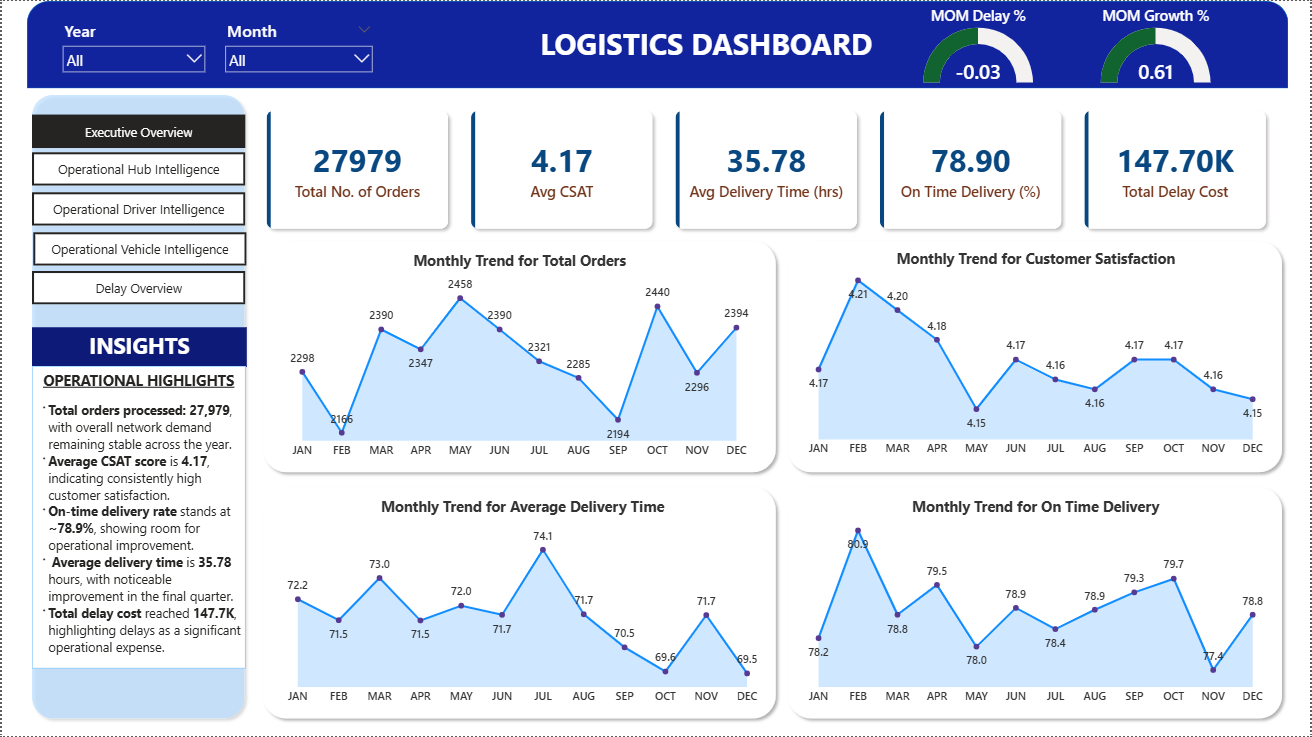

Layout of this report page (visuals, bound fields, positions):
{"tool":"powerbi","page":{"name":"Executive Overview","canvas":[1920,1080],"ordinal":0},"visuals":[{"type":"shape","box":[36.7,0,1850.8,128.4],"z":0},{"type":"textbox","box":[755.7,27.5,555.8,75.2],"z":1000},{"type":"cardVisual","fields":{"Data":["Sum(delivery_network vw_executive_kpis.total_orders)","Avg(delivery_network vw_executive_kpis.avg_customer_satisfaction)","Avg(delivery_network vw_executive_kpis.avg_delivery_time_hours)","Avg(delivery_network vw_executive_kpis.on_time_percentage)","Sum(delivery_network vw_executive_kpis.delay_cost)"]},"box":[359.5,132.1,1527.9,231.1],"z":2000},{"type":"shape","box":[374.2,704.4,770.4,357.7],"z":3000},{"type":"areaChart","title":"Monthly Trend for Average Delivery Time","fields":{"Category":["delivery_network vw_monthly_kpis_with_mom.month_name_abb"],"Y":["Sum(delivery_network vw_monthly_kpis_with_mom.avg_delivery_time_hours)"]},"box":[405.4,726.4,717.2,315.5],"z":4000},{"type":"shape","box":[374.2,343,770.4,357.7],"z":5000},{"type":"shape","box":[1144.6,704.4,742.9,357.7],"z":6000},{"type":"shape","box":[1144.6,343,742.9,357.7],"z":7000},{"type":"areaChart","title":"Monthly Trend for Total Orders","fields":{"Category":["delivery_network vw_monthly_kpis_with_mom.month_name_abb"],"Y":["Sum(delivery_network vw_monthly_kpis_with_mom.total_orders)"]},"box":[412.7,365,693.3,315.5],"z":8000},{"type":"areaChart","title":"Monthly Trend for Customer Satisfaction","fields":{"Category":["delivery_network vw_monthly_kpis_with_mom.month_name_abb"],"Y":["Avg(delivery_network vw_monthly_kpis_with_mom.avg_customer_satisfaction)"]},"box":[1170.3,363.2,693.3,315.5],"z":9000},{"type":"areaChart","title":"Monthly Trend for On Time Delivery","fields":{"Category":["delivery_network vw_monthly_kpis_with_mom.month_name_abb"],"Y":["Avg(delivery_network vw_monthly_kpis_with_mom.on_time_percentage)"]},"box":[1170.3,726.4,693.3,315.5],"z":10000},{"type":"slicer","fields":{"Values":["delivery_network dim_date.year"]},"box":[78.9,22,229.3,88],"z":11000},{"type":"slicer","fields":{"Values":["delivery_network vw_executive_kpis.month_name"]},"box":[317.3,22,236.6,88],"z":12000},{"type":"gauge","fields":{"Y":["Avg(delivery_network vw_executive_kpis.mom_delay_change_percentage)"]},"box":[1311.5,5.5,242.1,119.2],"z":13000},{"type":"gauge","fields":{"Y":["Avg(delivery_network vw_executive_kpis.mom_order_growth_percentage)"]},"box":[1572,5.5,242.1,119.2],"z":14000},{"type":"shape","box":[34.9,128.4,330.2,933.6],"z":15000},{"type":"textbox","box":[44,478.7,315.5,58.7],"z":16000},{"type":"textbox","box":[44,535.6,313.7,443.9],"z":17000},{"type":"pageNavigator","box":[44,166.9,313.7,49.5],"z":18000},{"type":"pageNavigator","box":[44,221.9,313.7,49.5],"z":19000},{"type":"pageNavigator","box":[44,280.6,313.7,49.5],"z":20000},{"type":"pageNavigator","box":[45.9,339.3,313.7,49.5],"z":21000},{"type":"pageNavigator","box":[44,396.2,313.7,49.5],"z":22000}]}

Visuals, with their boxes in screenshot pixels (x1, y1, x2, y2), scaled from the page's 1920x1080 canvas onto the 1312x737 screenshot:
shape: box(25, 0, 1290, 88)
textbox: box(516, 19, 896, 70)
cardVisual - Sum(delivery_network vw_executive_kpis.total_orders) x Avg(delivery_network vw_executive_kpis.avg_customer_satisfaction): box(246, 90, 1290, 248)
shape: box(256, 481, 782, 725)
"Monthly Trend for Average Delivery Time" areaChart: box(277, 496, 767, 711)
shape: box(256, 234, 782, 478)
shape: box(782, 481, 1290, 725)
shape: box(782, 234, 1290, 478)
"Monthly Trend for Total Orders" areaChart: box(282, 249, 756, 464)
"Monthly Trend for Customer Satisfaction" areaChart: box(800, 248, 1273, 463)
"Monthly Trend for On Time Delivery" areaChart: box(800, 496, 1273, 711)
slicer - delivery_network dim_date.year: box(54, 15, 211, 75)
slicer - delivery_network vw_executive_kpis.month_name: box(217, 15, 378, 75)
gauge - Avg(delivery_network vw_executive_kpis.mom_delay_change_percentage): box(896, 4, 1062, 85)
gauge - Avg(delivery_network vw_executive_kpis.mom_order_growth_percentage): box(1074, 4, 1240, 85)
shape: box(24, 88, 249, 725)
textbox: box(30, 327, 246, 367)
textbox: box(30, 365, 244, 668)
pageNavigator: box(30, 114, 244, 148)
pageNavigator: box(30, 151, 244, 185)
pageNavigator: box(30, 191, 244, 225)
pageNavigator: box(31, 232, 246, 265)
pageNavigator: box(30, 270, 244, 304)
